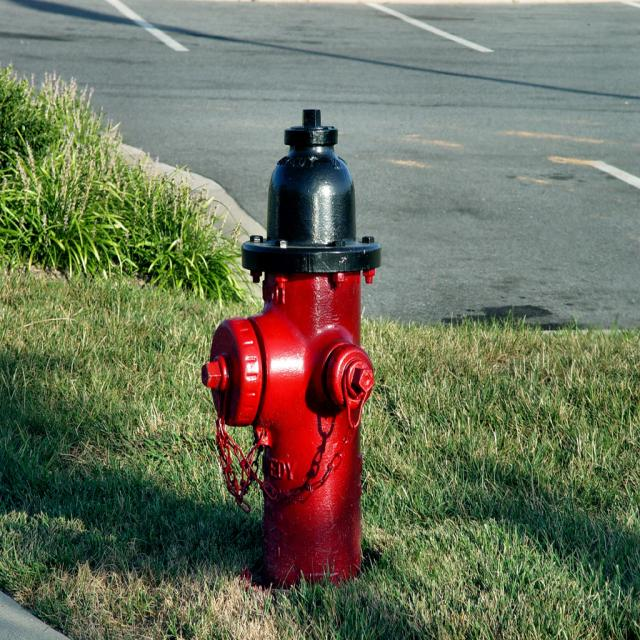fire_hydrant: (201, 110, 381, 582)
